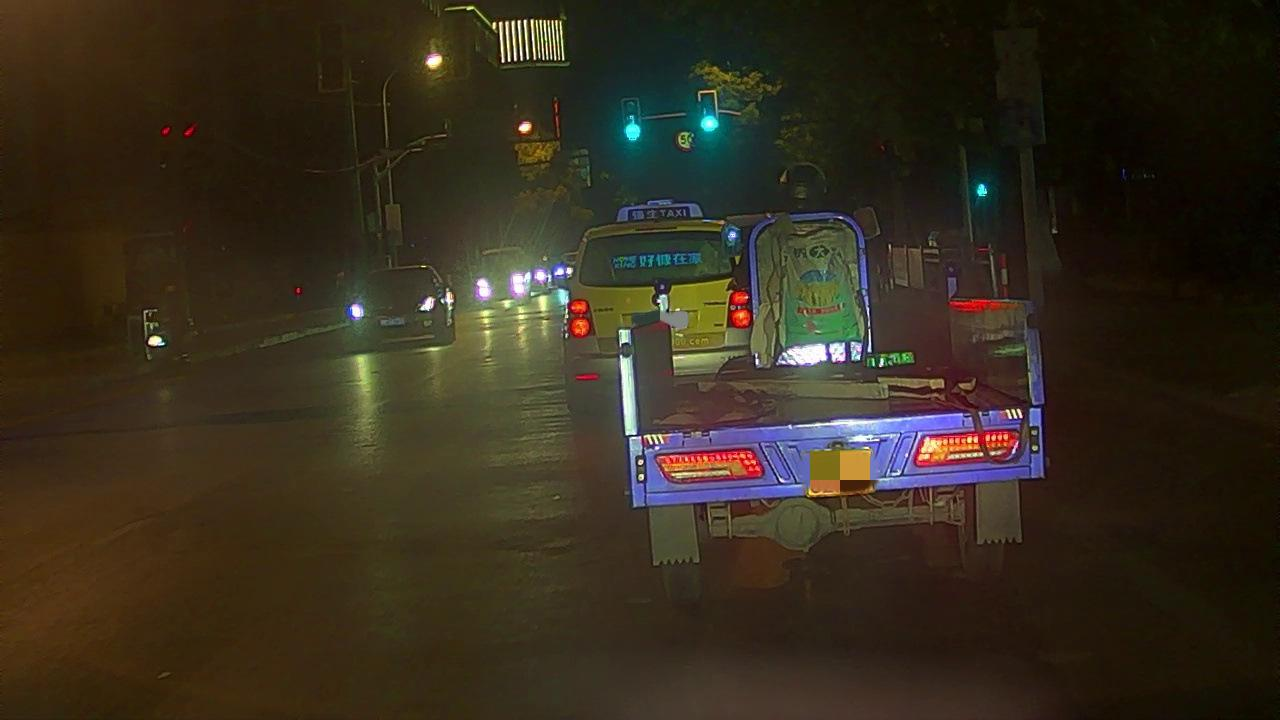traffic_light: (623, 96, 642, 145), (699, 90, 718, 135)
